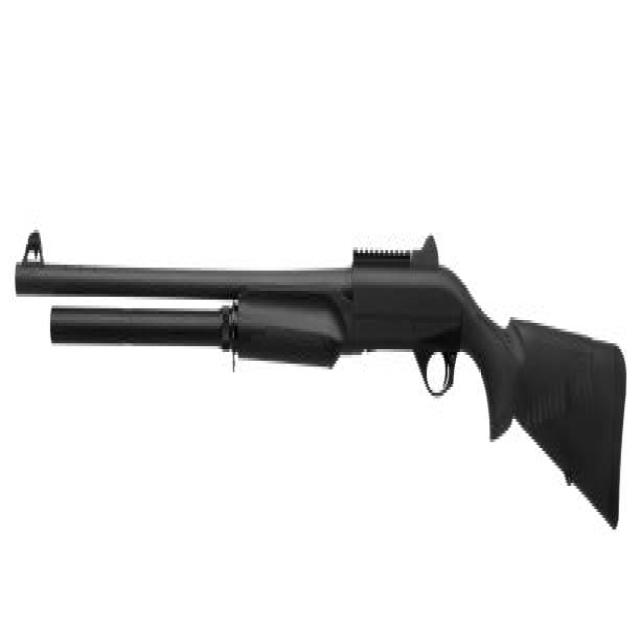rifle: (13, 226, 627, 542)
